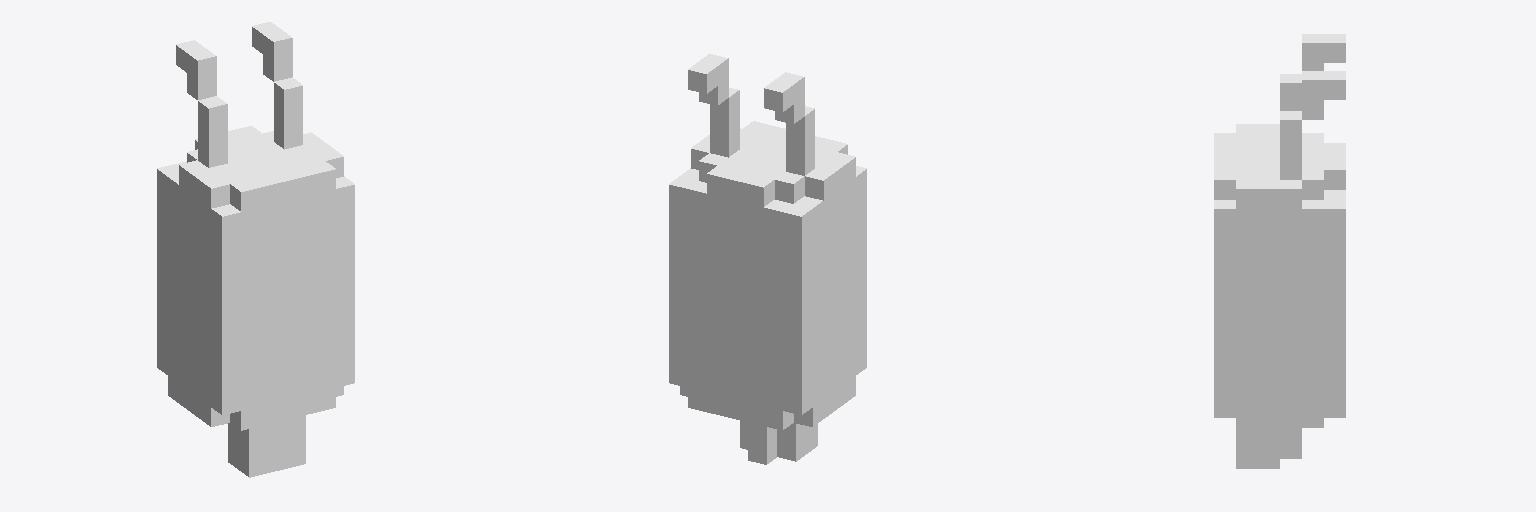
The model's file is OSA-1.obj.
The picture shows the model from 3 angles: view 1: azimuth 30°, elevation 25°; view 2: azimuth 150°, elevation 25°; view 3: azimuth 270°, elevation 25°; orthographic projection.
Parts seen in each view (by area): view 1: object 1; view 2: object 1; view 3: object 1.
Boxes of the visible parts, <box> form: object 1: <box>157,22,354,477</box>; object 1: <box>669,54,866,464</box>; object 1: <box>1214,34,1345,468</box>.
Bounding box in the file's own units: 0.7 × 2 × 0.6.